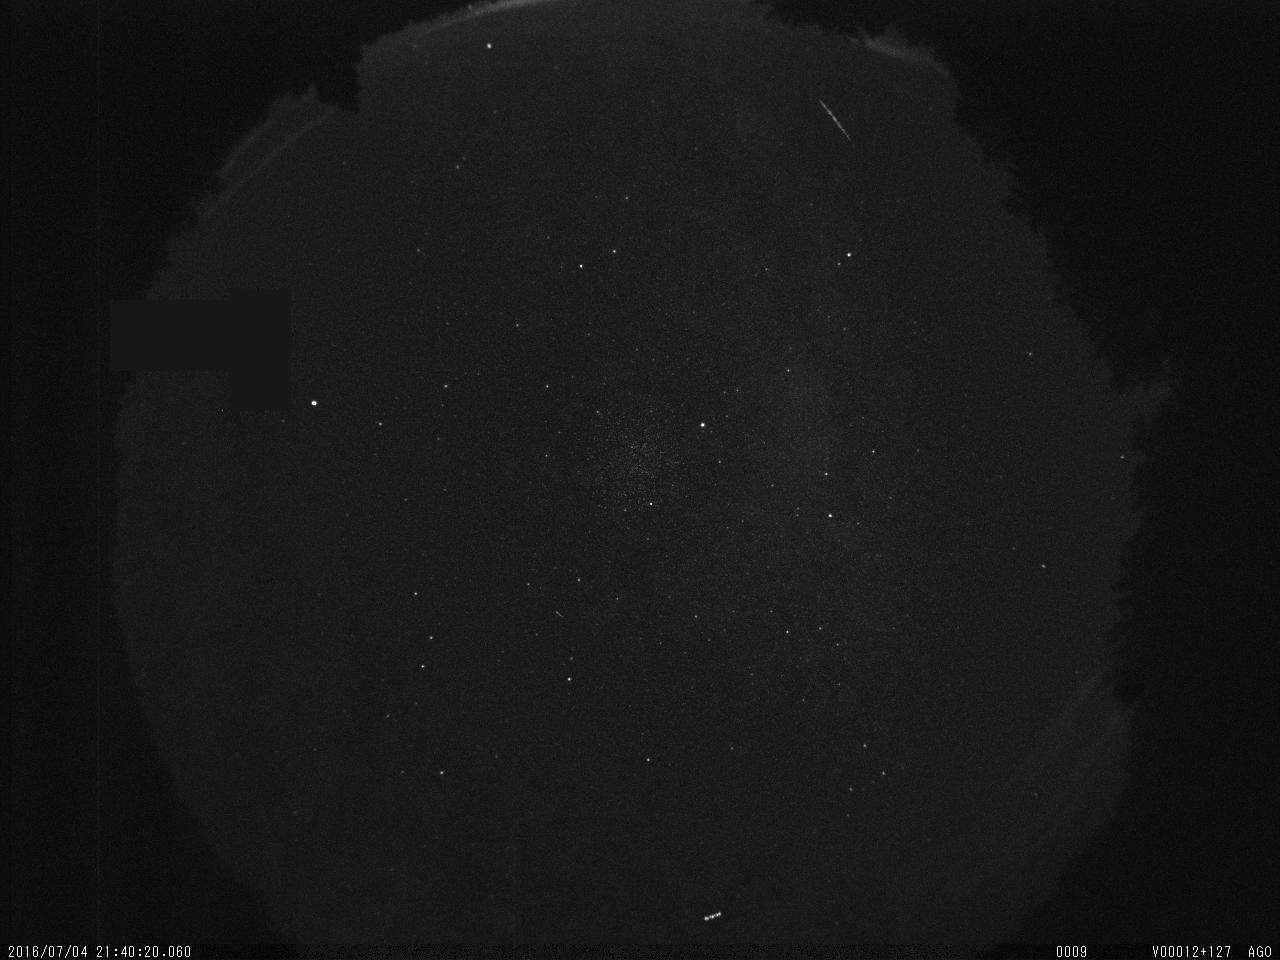meteor: (813, 93, 862, 154)
satelite: (696, 901, 726, 930)
